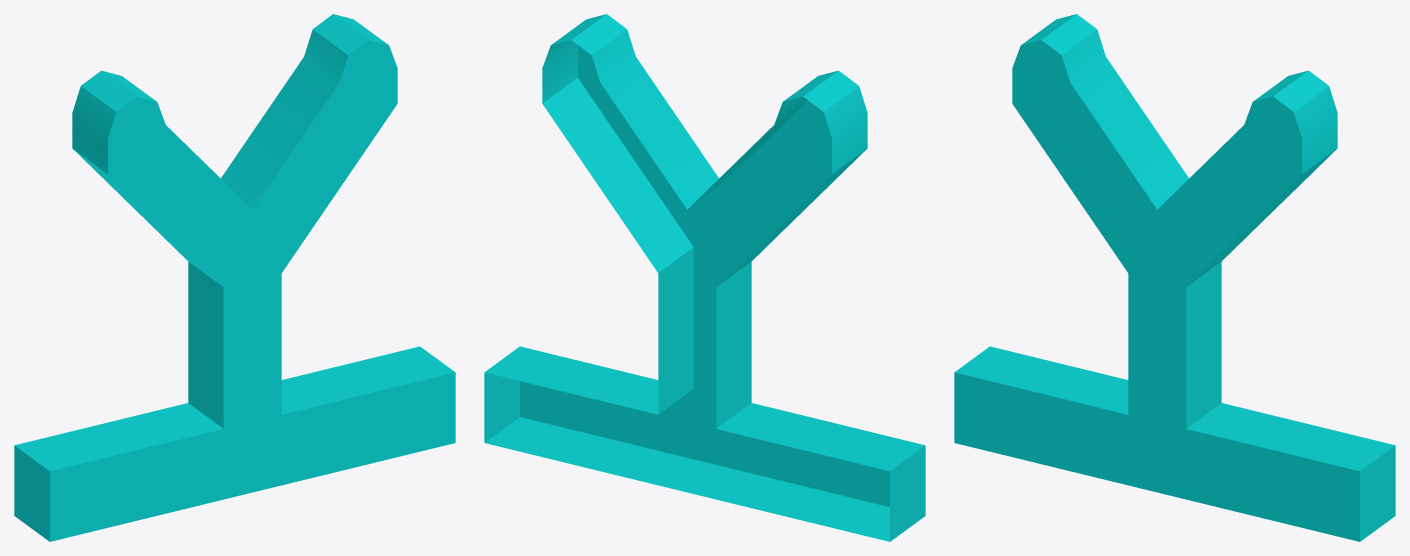
The model's file is Y_Blue.glb.
3 renders of one model, left to right at view 1: azimuth 30°, elevation 25°; view 2: azimuth 150°, elevation 25°; view 3: azimuth 330°, elevation 25°, orthographic.
Parts seen in each view (by area): view 1: Y; view 2: Y; view 3: Y.
Part boxes in pixels (bbox=[...]): Y: bbox=[14, 14, 455, 541]; Y: bbox=[484, 14, 925, 541]; Y: bbox=[954, 14, 1395, 541].
Size of the model in its own units: 0.5002 by 0.4998 by 0.0759.
Materials: 1 (1 with a texture image).
